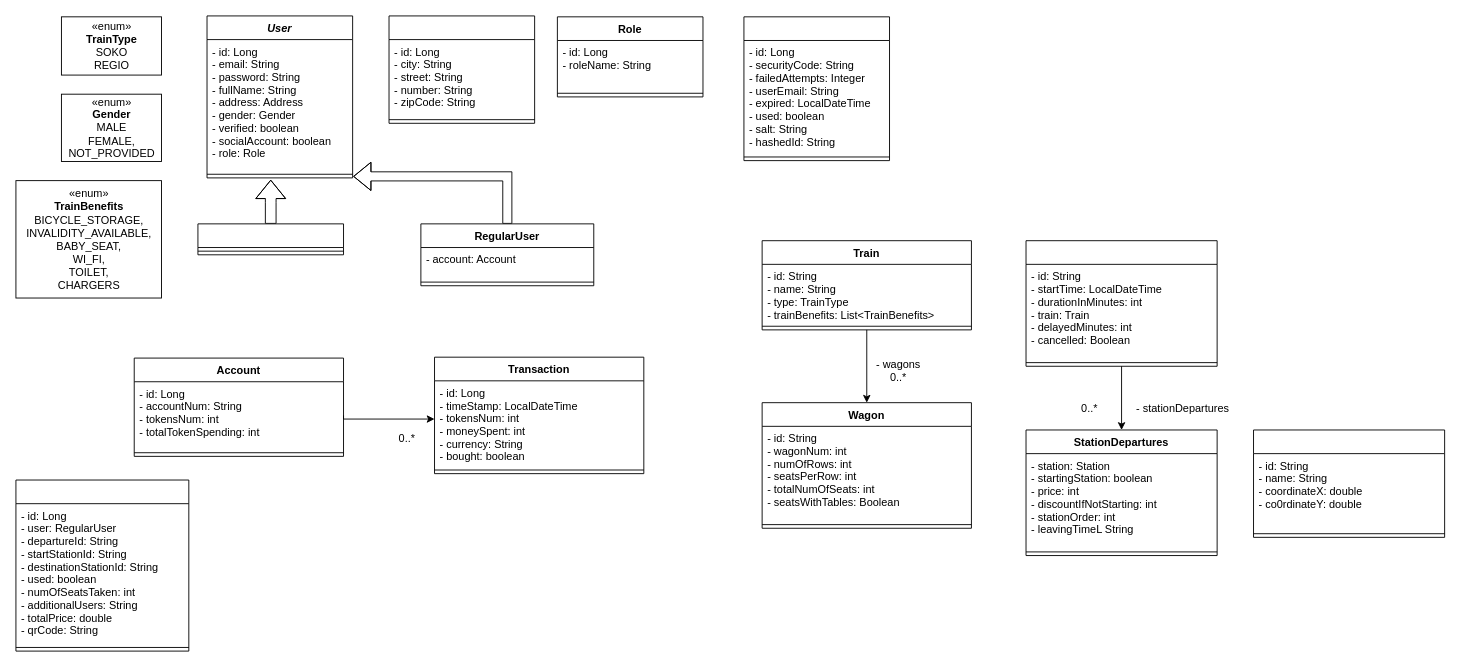
This 1461x667 diagram has some shape labels left out. The shapes that lost their labels are listed below. From the top down, each one's box as (x1, y1, x2, y2) in pixels, then its label:
(388, 15, 535, 123): Address
(743, 16, 890, 161): Verification
(197, 223, 344, 255): Admin
(1025, 240, 1217, 366): Departure
(1253, 429, 1445, 537): Station
(15, 479, 189, 651): Ticket
